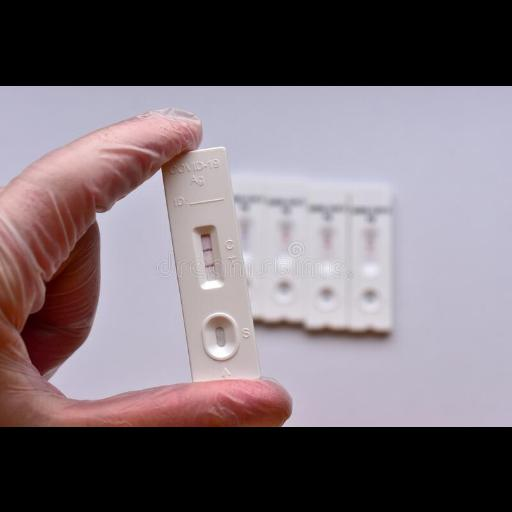Pos: (163, 145, 264, 385)
